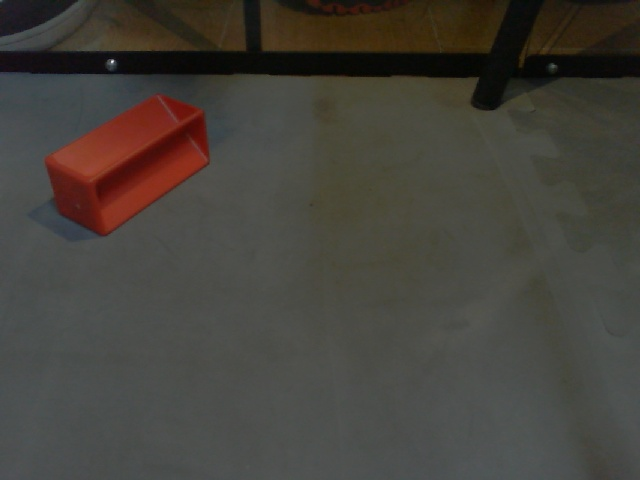RedSample: (43, 91, 211, 237)
